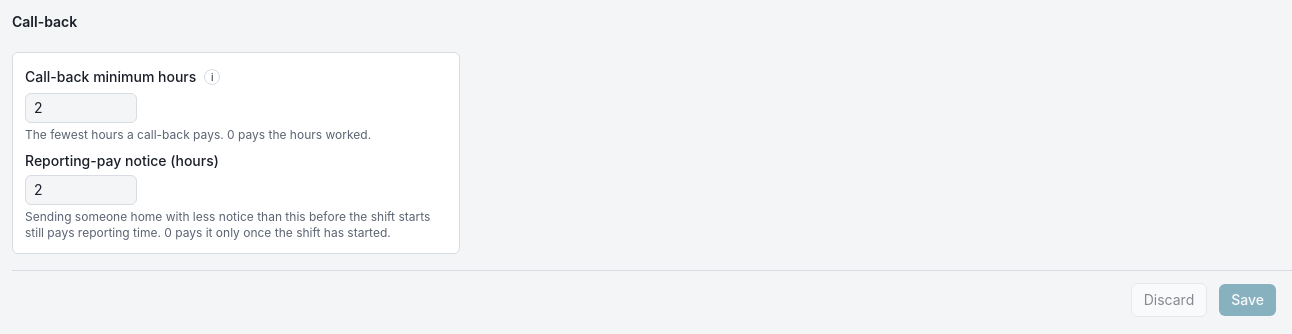
the call-back minimum in Settings › Pay › puts back the saved minimum on Discard
Replace the text in the number field labelled "Call-back minimum hours" with "4" at (81, 108), box [25,93,137,123]
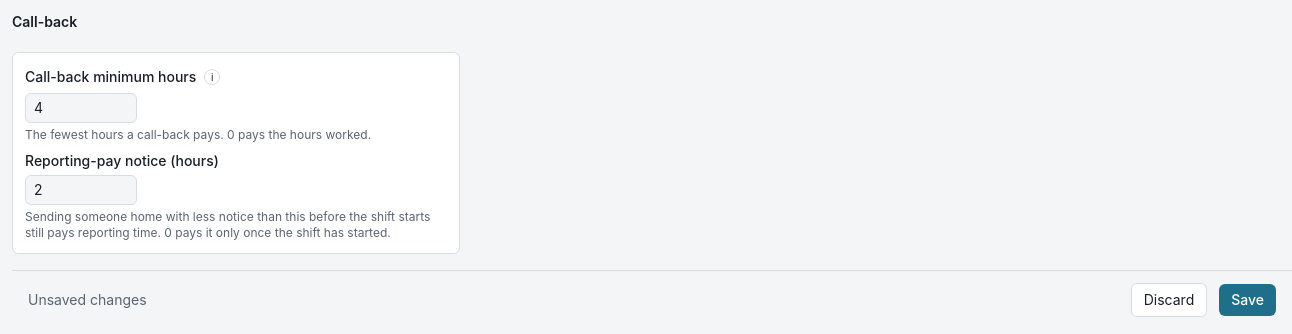
Click the button "Discard".
click(1169, 300)  # box [1131,283,1207,317]
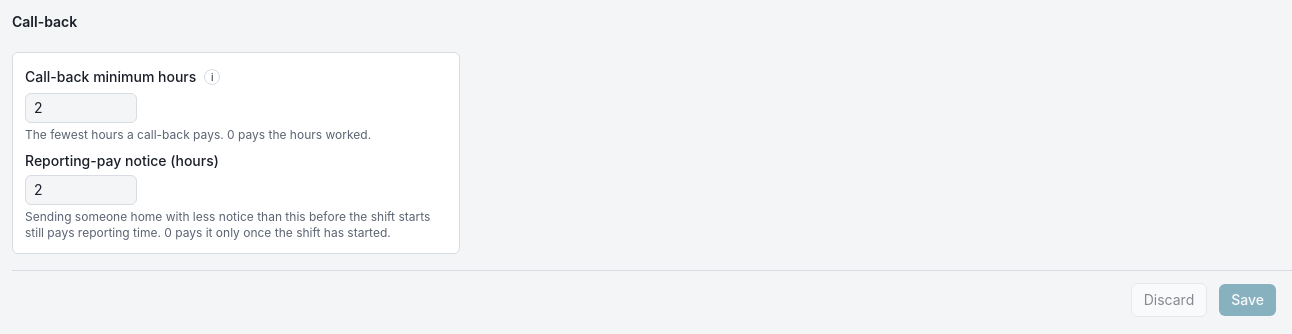
Now the number field labelled "Call-back minimum hours" holds "2", box [25,93,137,123]
